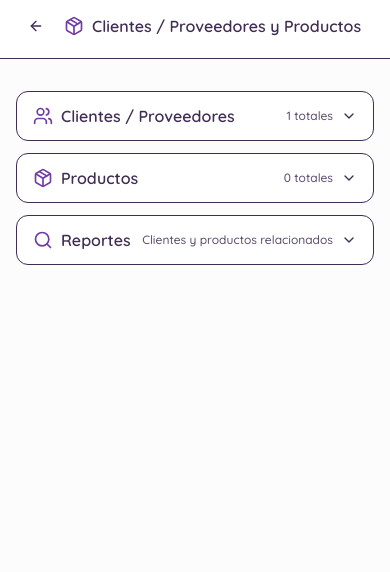
Test case: AdminPageClient integration › shows client name when initial clients provided
Click the button "Clientes / Proveedores 1 totales": click(195, 116) x1=17 y1=92 x2=373 y2=140
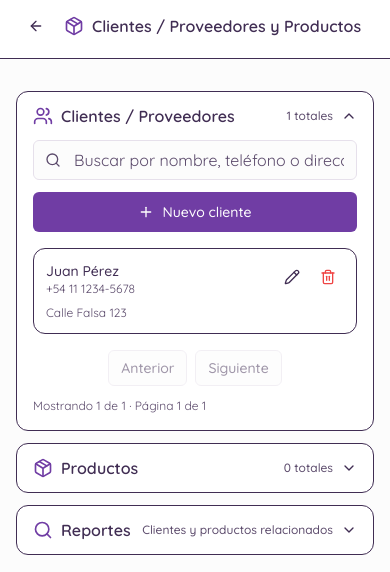
Now the text "Juan Pérez" is shown, box x1=46 y1=262 x2=119 y2=280
